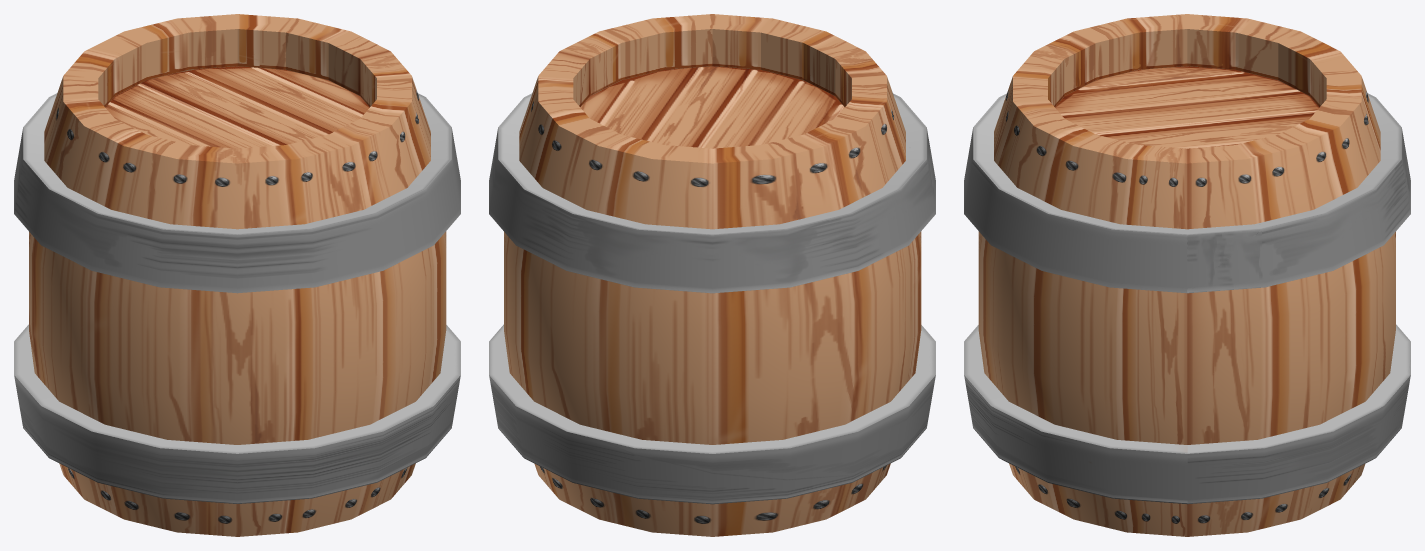
Rendered from drums_new.FBX.
3 renders of one model, left to right at view 1: azimuth 30°, elevation 25°; view 2: azimuth 150°, elevation 25°; view 3: azimuth 270°, elevation 25°, orthographic.
Visible parts, largest first — view 1: Cylinder001; view 2: Cylinder001; view 3: Cylinder001.
Boxes of the visible parts, <box> form: Cylinder001: <box>14,14,460,536</box>; Cylinder001: <box>489,14,935,536</box>; Cylinder001: <box>964,14,1410,536</box>.
Bounding box in the file's own units: 1.54 × 1.4 × 1.52.
